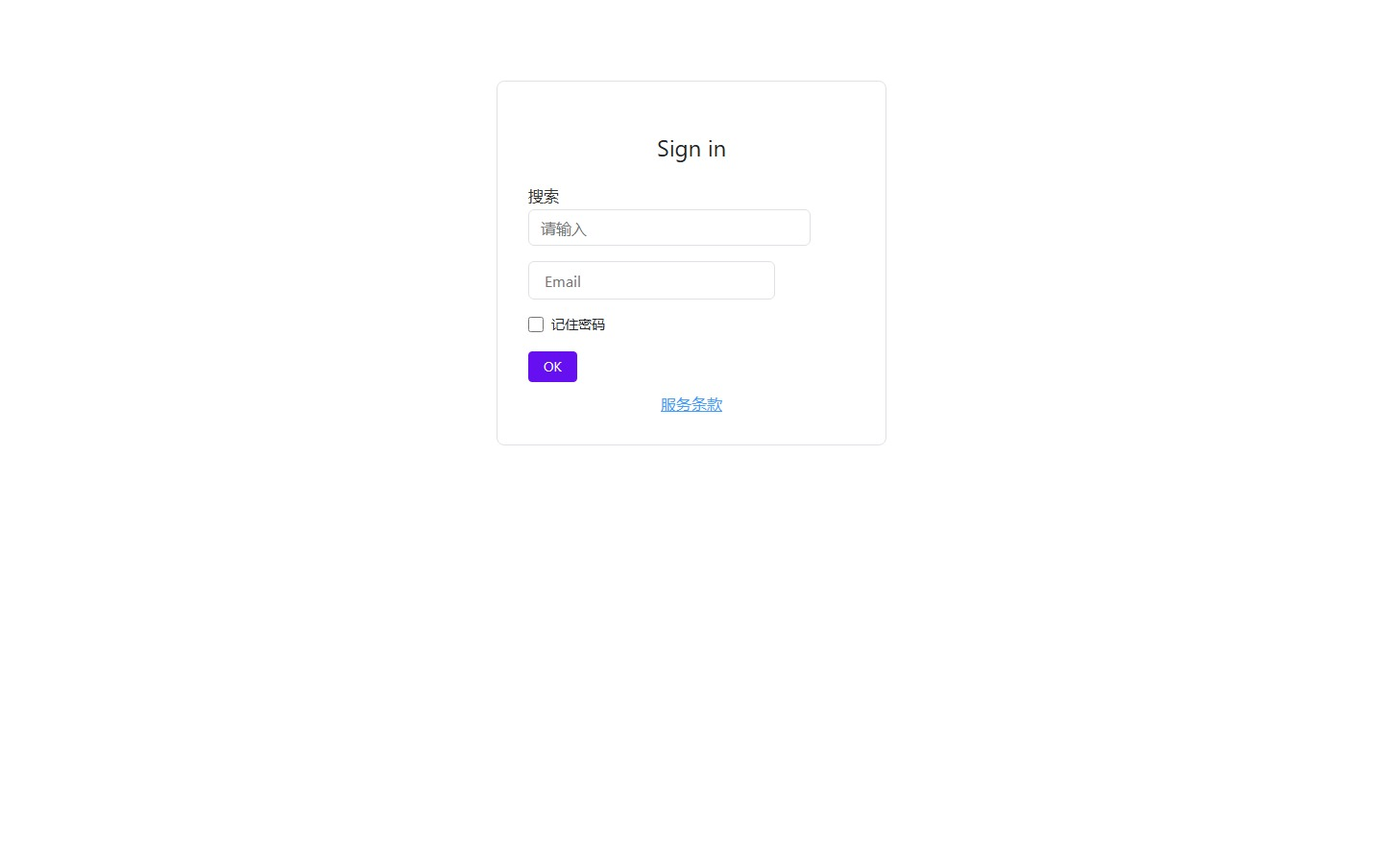button: (528, 351, 577, 382)
checkbox: (528, 317, 544, 332)
icon: (551, 315, 605, 333)
input: (528, 209, 811, 246), (528, 261, 775, 300)
link: (661, 393, 722, 413)
radio: (528, 315, 605, 333)
